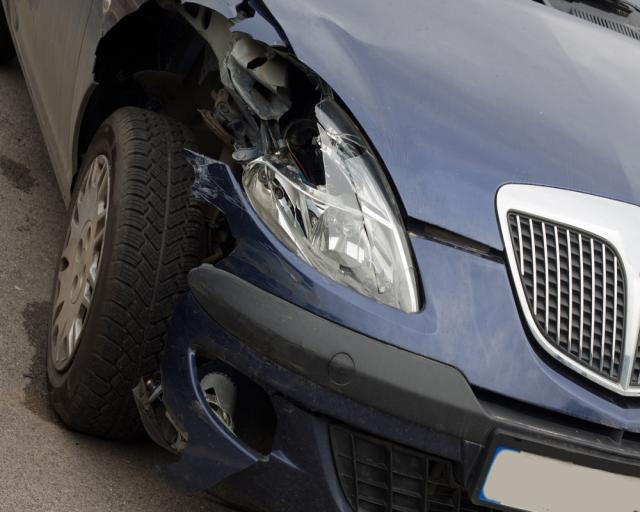crack: (203, 456, 263, 490)
dent: (307, 0, 394, 96)
lamp broken: (225, 39, 422, 313)
scratch: (187, 153, 242, 209)
